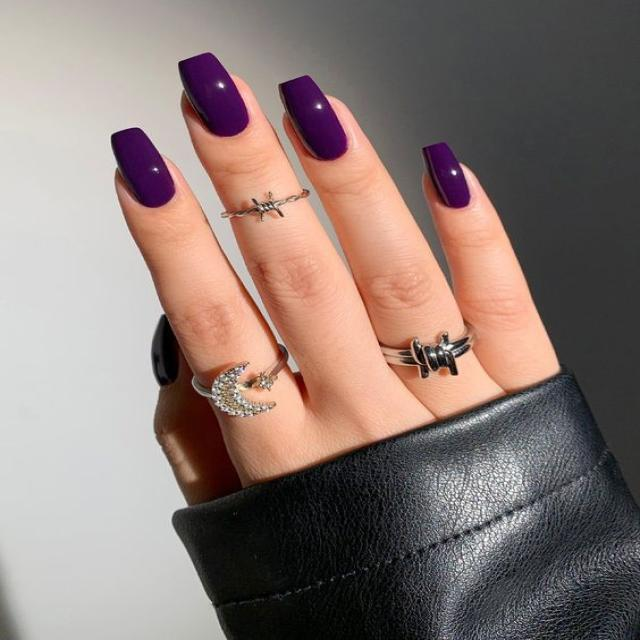Fingernail: (278, 75, 348, 161), (179, 52, 249, 136), (112, 126, 176, 207), (421, 140, 471, 209), (151, 314, 177, 384)
